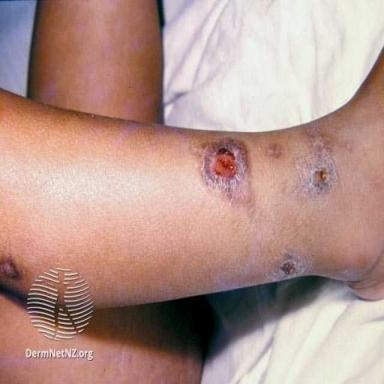Impetigo: (201, 138, 263, 225), (289, 111, 341, 201), (269, 250, 310, 282), (0, 254, 25, 284), (265, 144, 283, 158)
